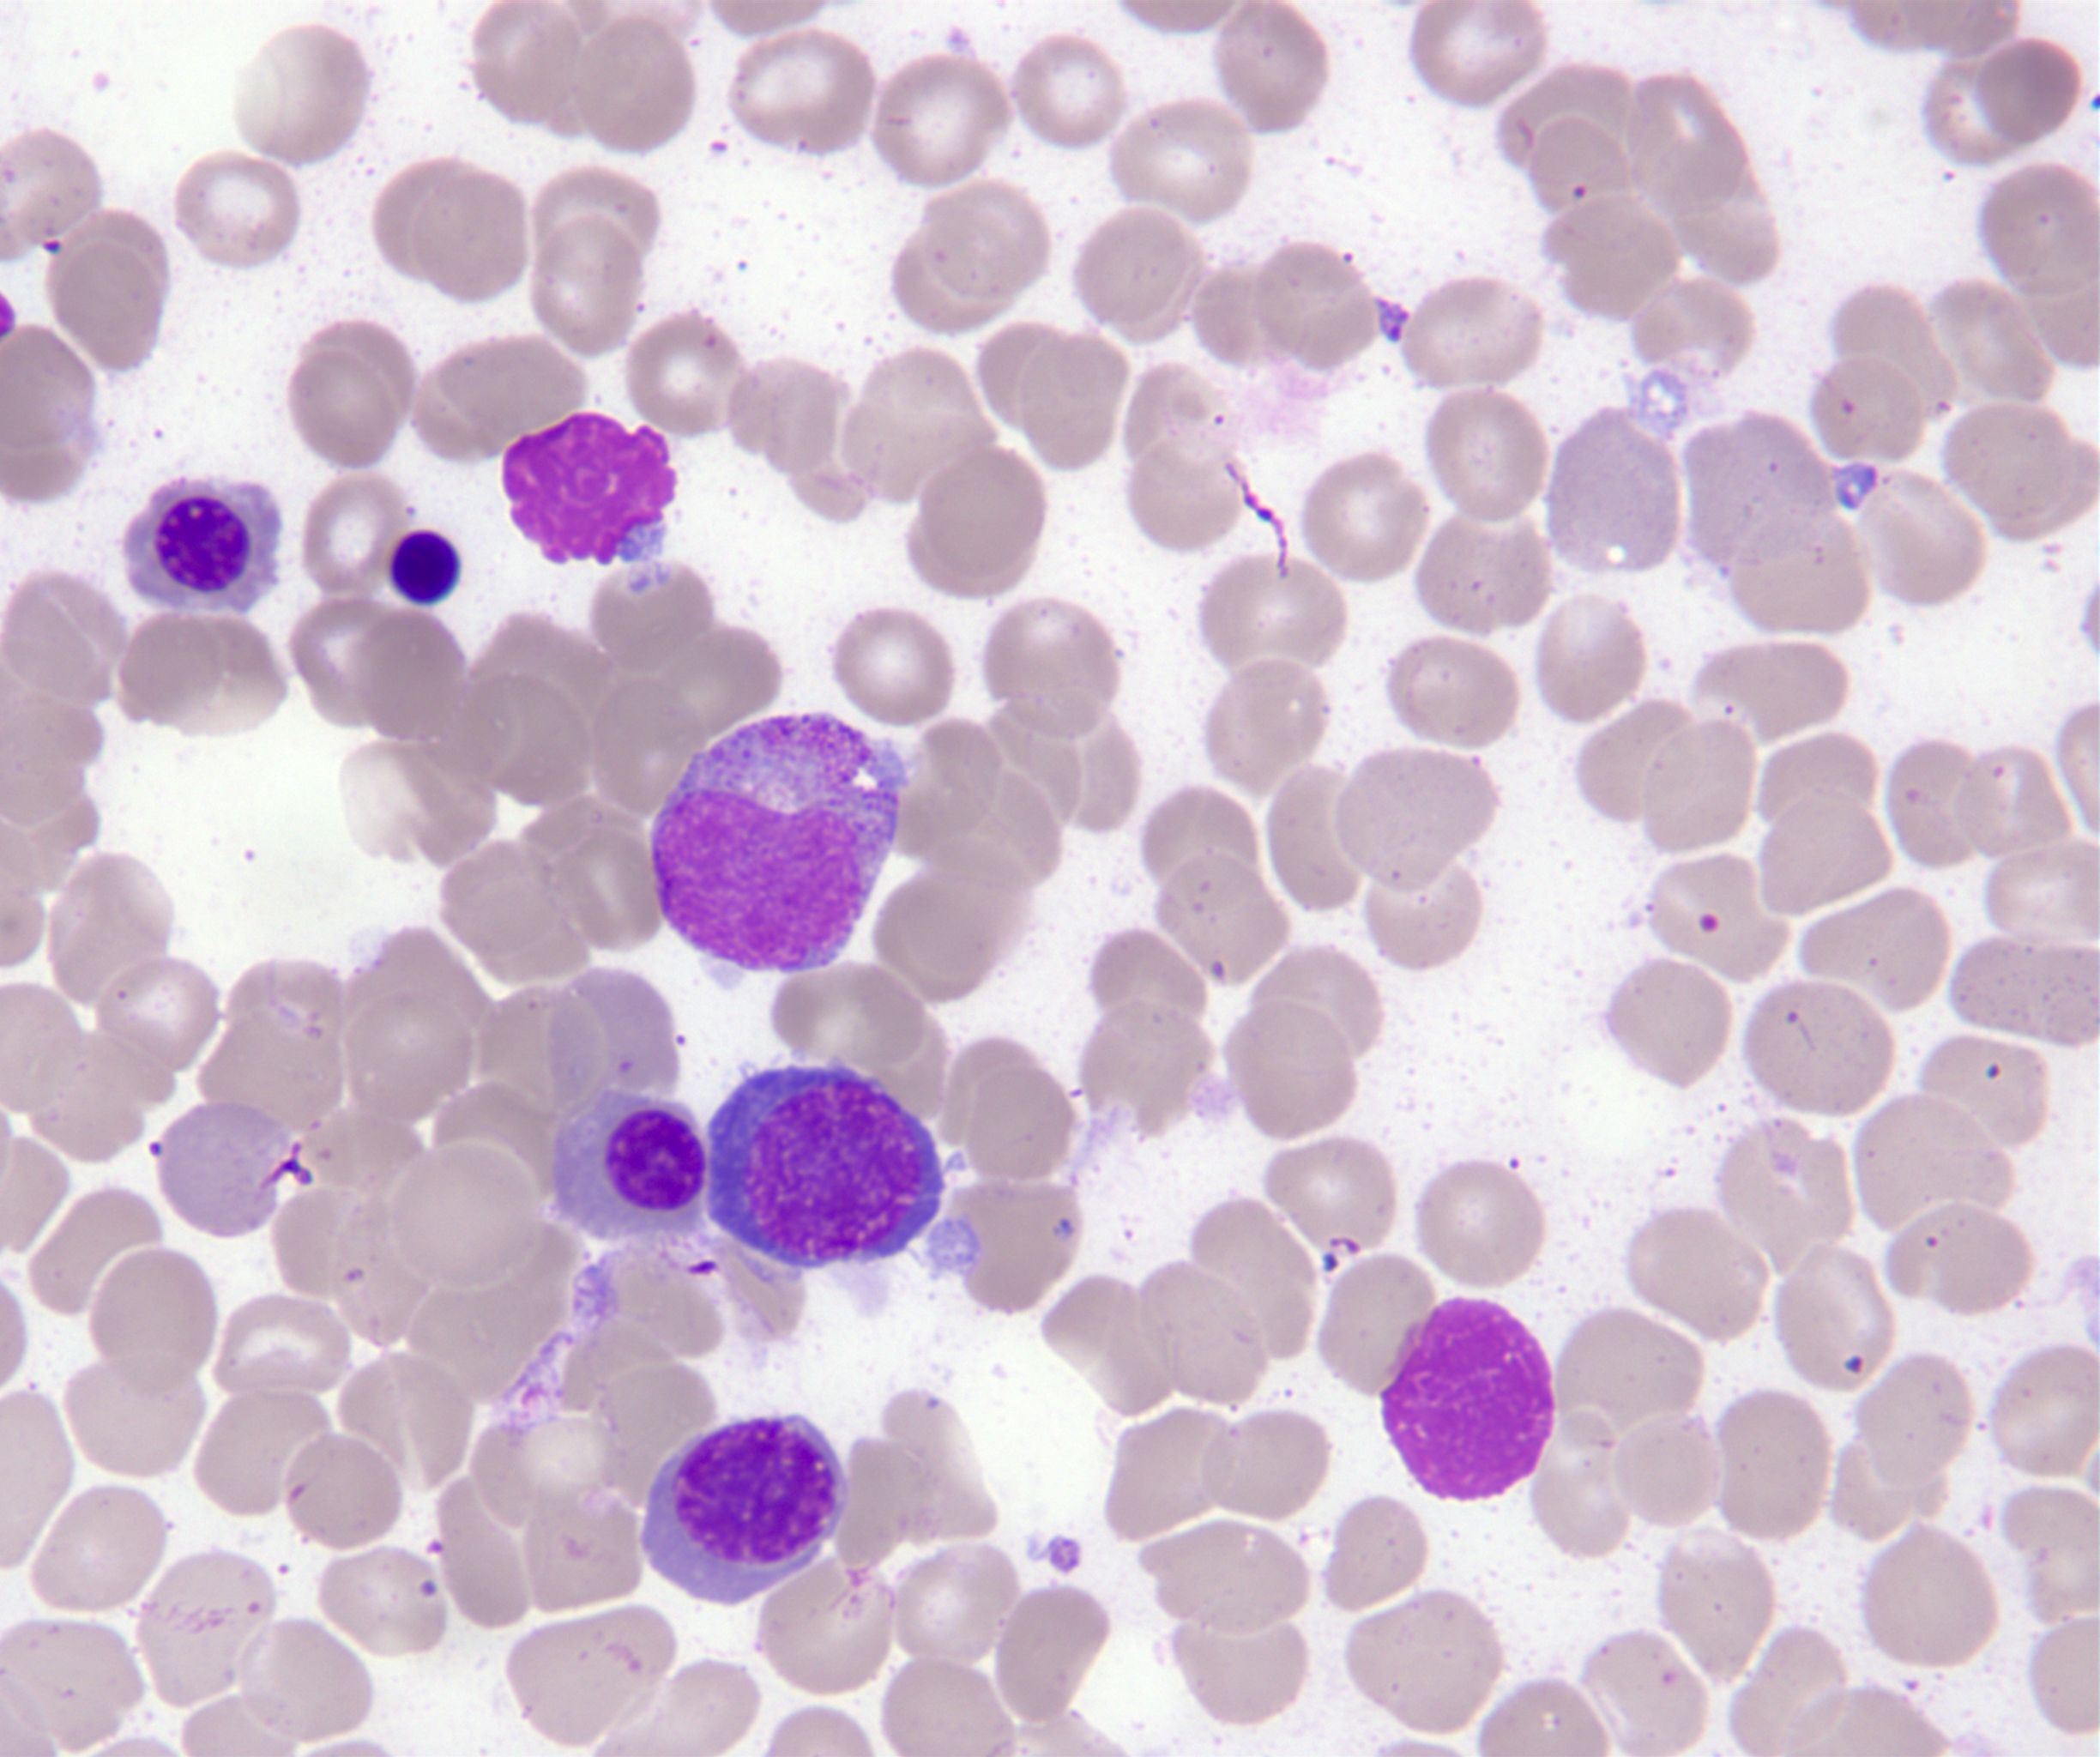2: (652, 714, 900, 974)
22: (712, 1066, 942, 1270)
23: (638, 1413, 841, 1605), (549, 1090, 703, 1242)
24: (124, 480, 281, 614)
x: (1381, 1300, 1551, 1499), (504, 419, 678, 565), (389, 532, 459, 605)
